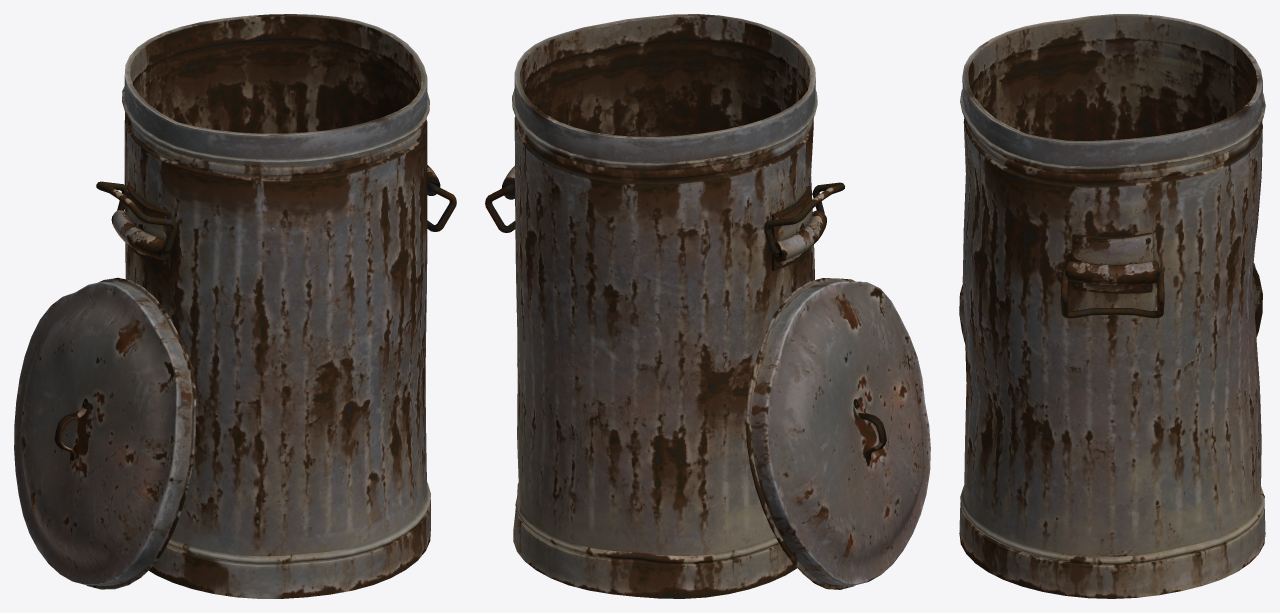
File: metal_trash_can_2.fbx
The picture shows the model from 3 angles, left to right: view 1: azimuth 30°, elevation 25°; view 2: azimuth 150°, elevation 25°; view 3: azimuth 270°, elevation 25°; orthographic projection.
Visible parts, largest first — view 1: metal_trash_can_rust, metal_trash_can_rust_lid, metal_trash_can_rust_handle_left, metal_trash_can_rust_handle_right; view 2: metal_trash_can_rust, metal_trash_can_rust_lid, metal_trash_can_rust_handle_left, metal_trash_can_rust_handle_right; view 3: metal_trash_can_rust, metal_trash_can_rust_handle_right, metal_trash_can_rust_lid.
Boxes of the visible parts, x1=… form: metal_trash_can_rust: x1=111, y1=14, x2=440, y2=598; metal_trash_can_rust_lid: x1=14, y1=277, x2=196, y2=589; metal_trash_can_rust_handle_left: x1=96, y1=181, x2=177, y2=254; metal_trash_can_rust_handle_right: x1=427, y1=182, x2=456, y2=231; metal_trash_can_rust: x1=501, y1=14, x2=826, y2=598; metal_trash_can_rust_lid: x1=746, y1=278, x2=930, y2=589; metal_trash_can_rust_handle_left: x1=764, y1=182, x2=844, y2=255; metal_trash_can_rust_handle_right: x1=485, y1=183, x2=515, y2=232; metal_trash_can_rust: x1=959, y1=14, x2=1265, y2=598; metal_trash_can_rust_handle_right: x1=1061, y1=267, x2=1164, y2=318; metal_trash_can_rust_lid: x1=959, y1=262, x2=1262, y2=343.
Size of the model in its own units: 77.33 by 90.62 by 54.9.
